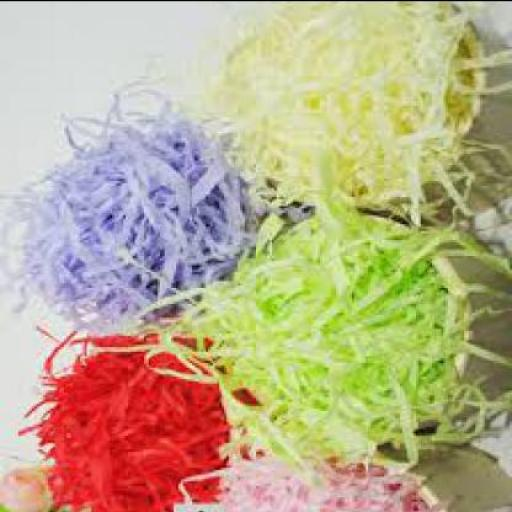paper: (198, 214, 496, 460), (195, 2, 502, 207), (3, 98, 246, 334), (32, 332, 228, 511), (187, 439, 444, 511)
